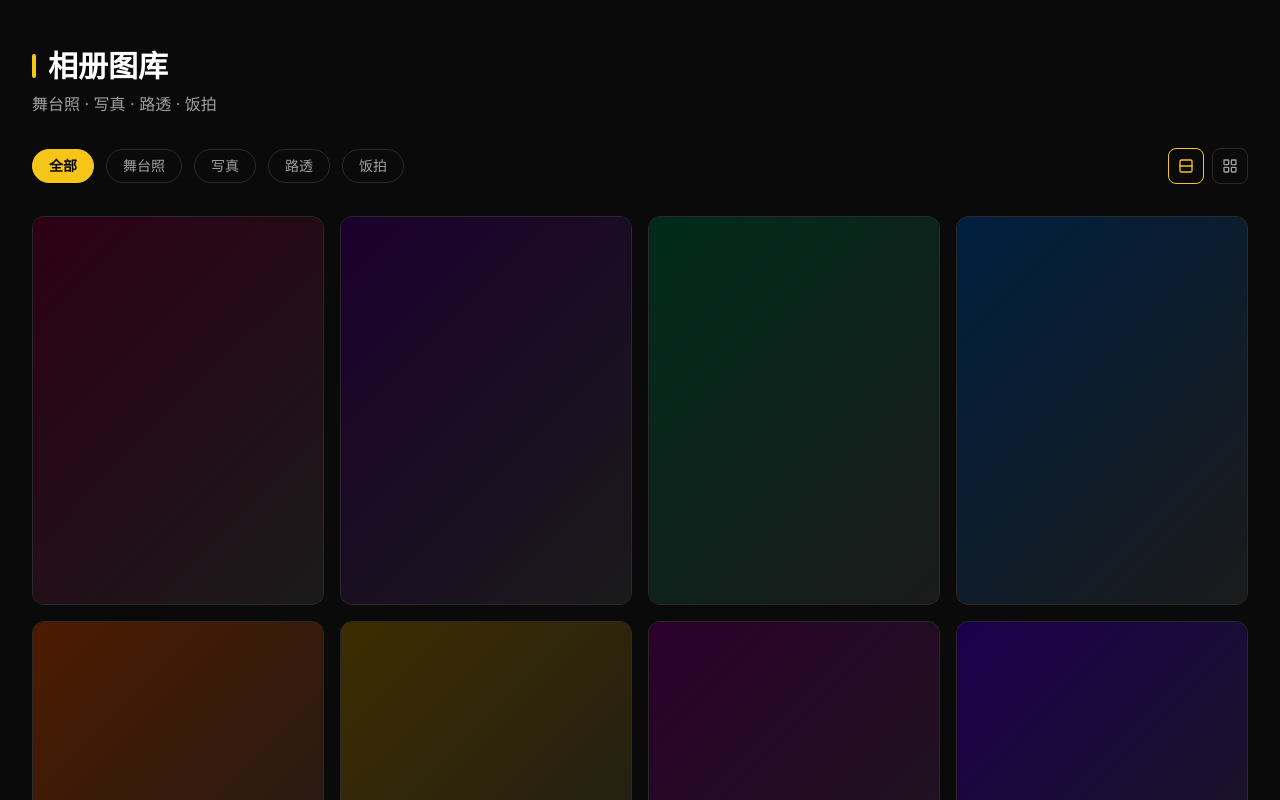
Scenario: 相册图库页 (Issue #11) › TC-05 灯箱右方向键切换
Click the button with test id "gallery-photo-p-001": x=178, y=410 [32,216,324,605]
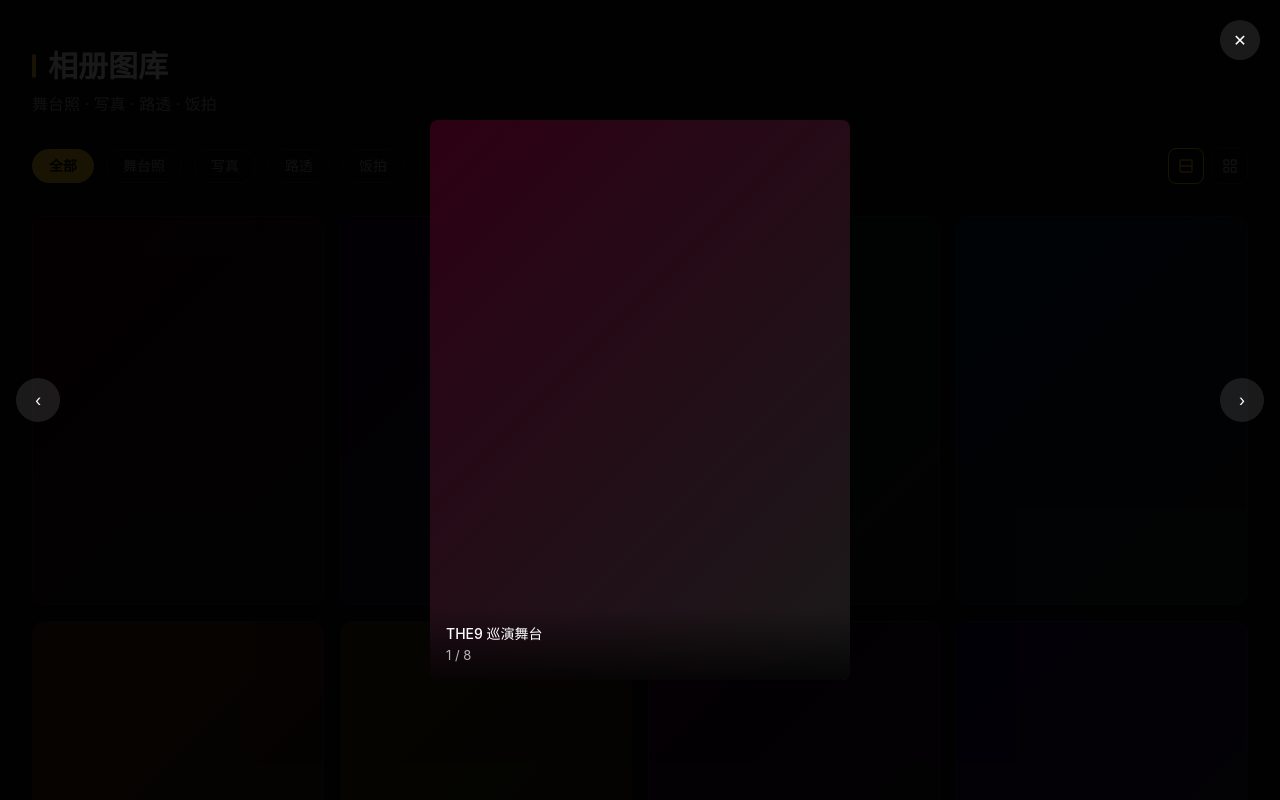
Press ArrowRight
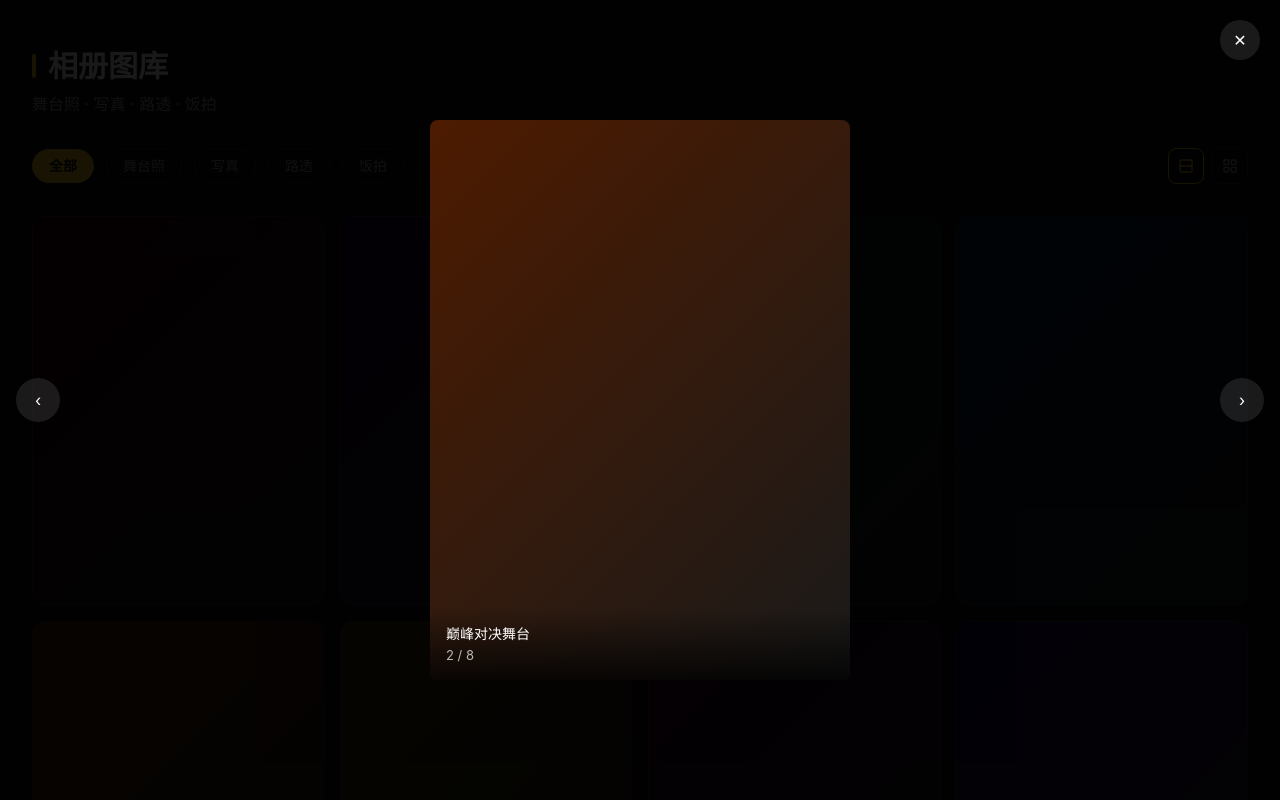
Check: the text "2 / 8" is shown, box [446,647,474,663]
